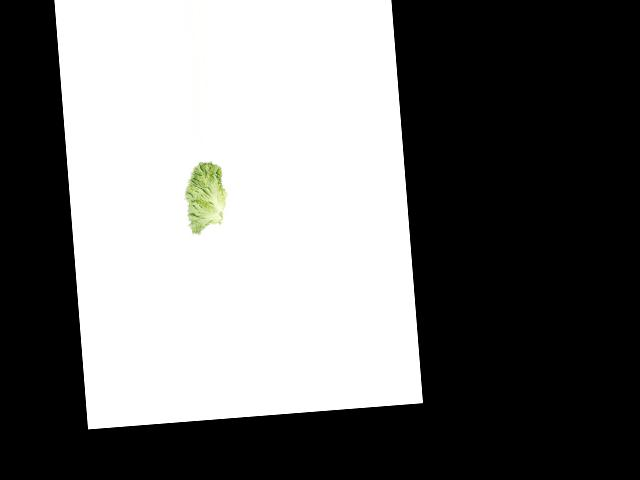lettuce: (176, 159, 232, 235)
